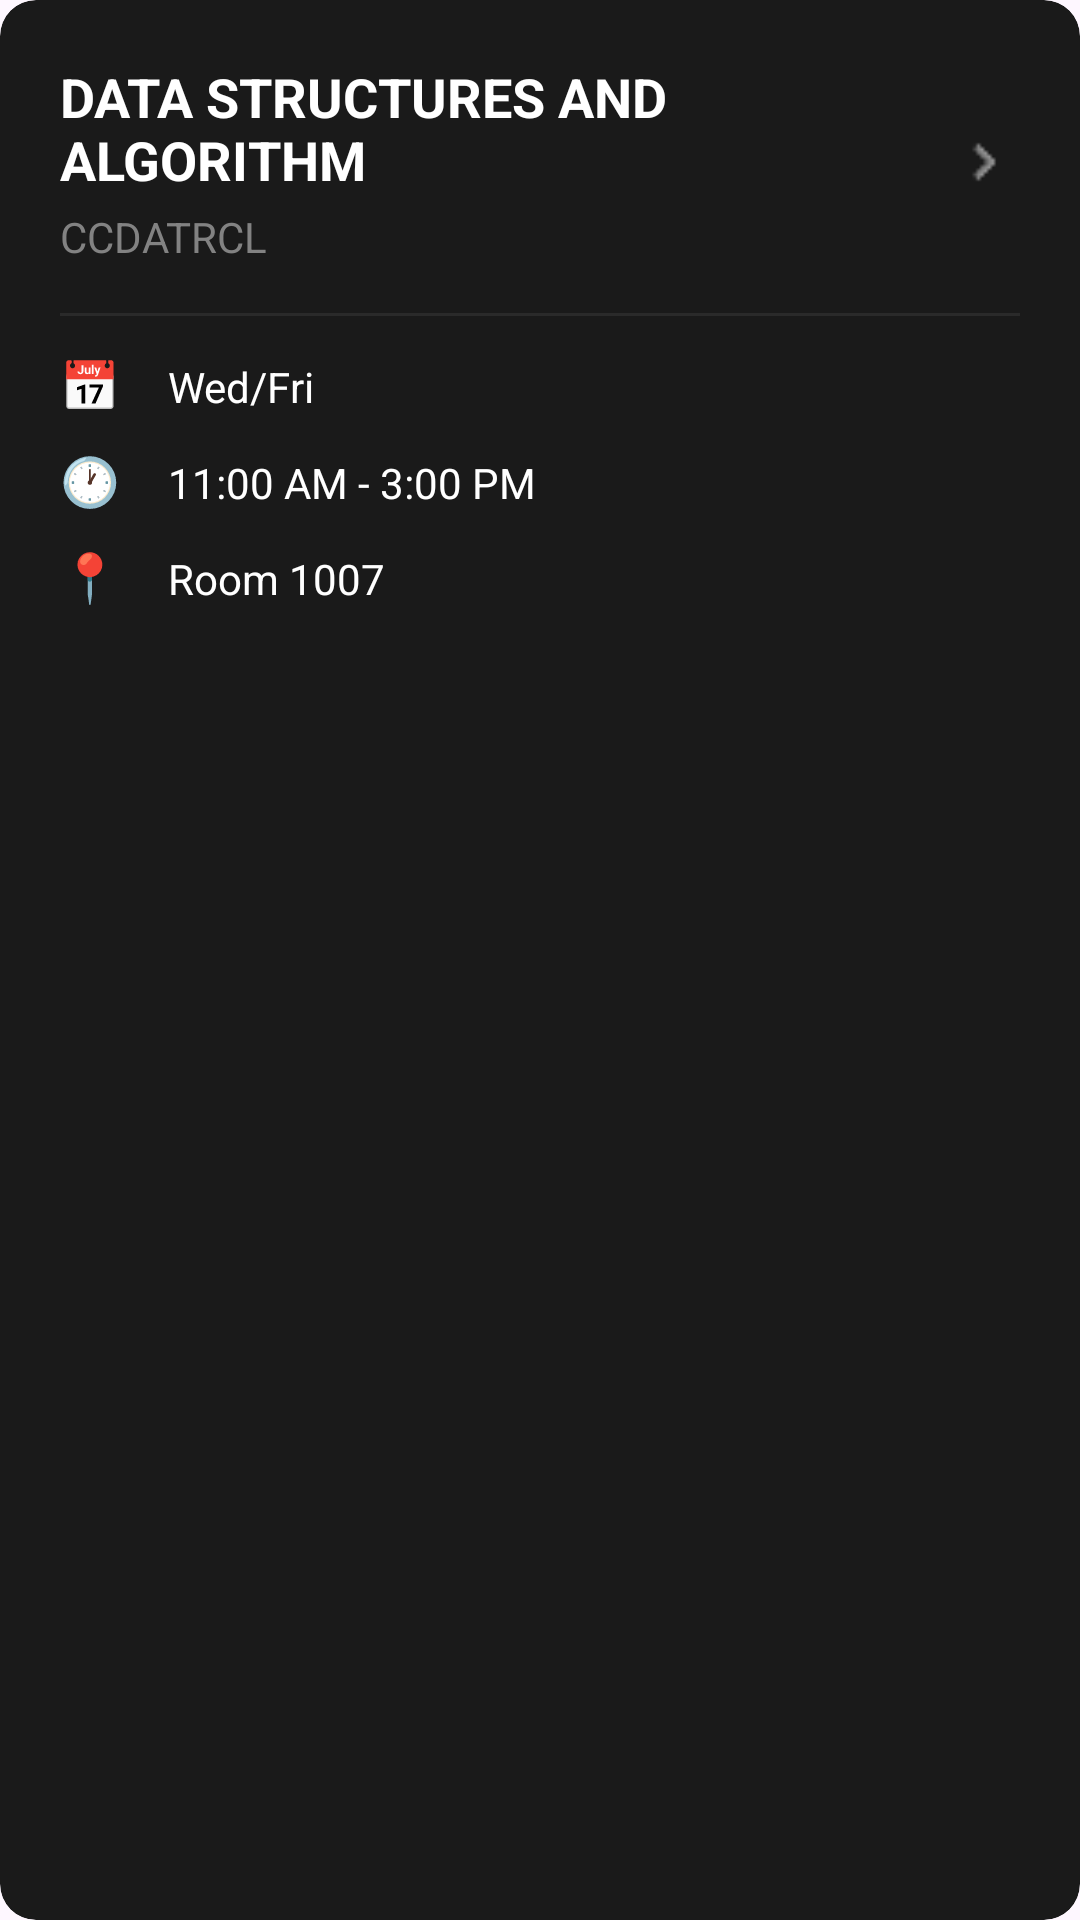

Screen size 1080*1920. Icon name, then its center in pixels as point (x, y):
card arrow: point (984, 162)
